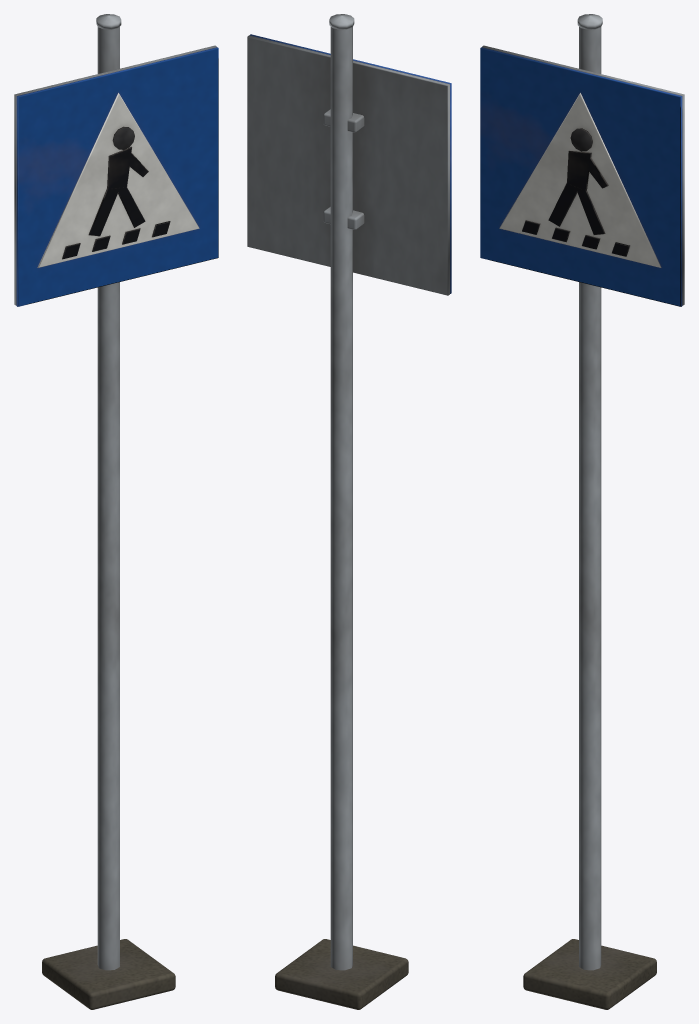
The model's file is znak_przejscie.glb.
The picture shows the model from 3 angles, left to right: view 1: azimuth 30°, elevation 25°; view 2: azimuth 150°, elevation 25°; view 3: azimuth 330°, elevation 25°; orthographic projection.
Parts seen in each view (by area): view 1: Tarcza, Slupek; view 2: Slupek, Tarcza; view 3: Tarcza, Slupek.
Boxes of the visible parts, <box> form: Tarcza: <box>16,47,218,306</box>; Slupek: <box>14,14,216,1009</box>; Slupek: <box>247,14,449,1009</box>; Tarcza: <box>250,34,451,293</box>; Tarcza: <box>480,47,682,306</box>; Slupek: <box>482,14,684,1009</box>.
Size of the model in its own units: 0.604 by 2.78 by 0.26.
Materials: 2 (2 with a texture image).
